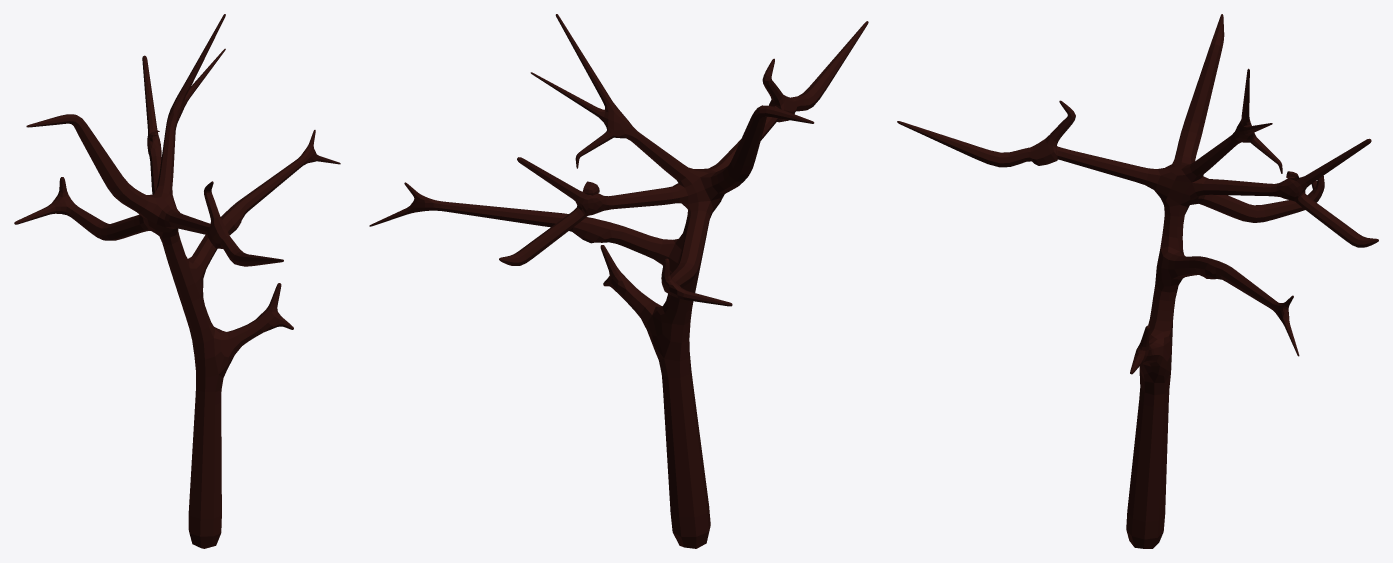
The model's file is arbre .fbx.
3 renders of one model, left to right at view 1: azimuth 30°, elevation 25°; view 2: azimuth 150°, elevation 25°; view 3: azimuth 270°, elevation 25°, orthographic. The views are drawn at different scales.
Visible parts, largest first — view 1: Cube.054; view 2: Cube.054; view 3: Cube.054.
Part boxes in pixels (left/top/right/bottom): Cube.054: left=14, top=14, right=340, bottom=548; Cube.054: left=369, top=14, right=868, bottom=548; Cube.054: left=897, top=14, right=1378, bottom=548.
Size of the model in its own units: 516 by 679 by 575.
